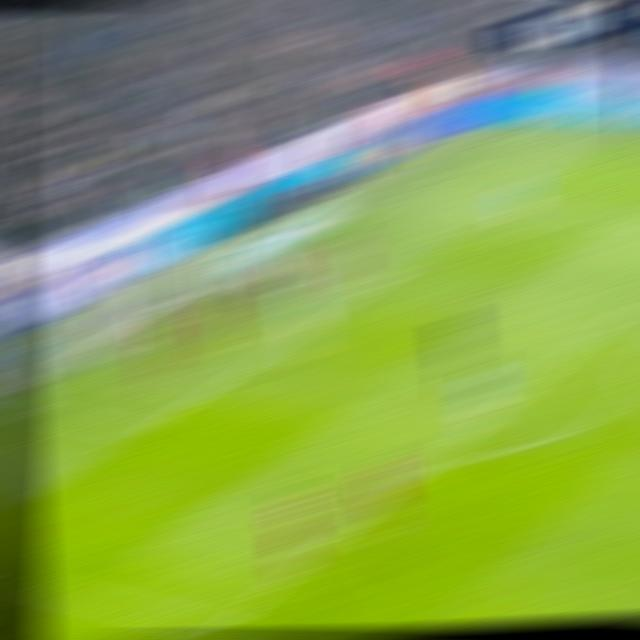bigarea_bottom_inner: (201, 615, 242, 633)
bigarea_top_outter: (389, 193, 421, 201)
bottom_arc_area_intersection: (412, 453, 450, 469)
corner: (511, 124, 546, 132)
smallarea_bottom_inner: (119, 422, 162, 442)
smallarea_top_inner: (367, 272, 403, 287)
top_arc_area_intersection: (586, 320, 626, 335)
